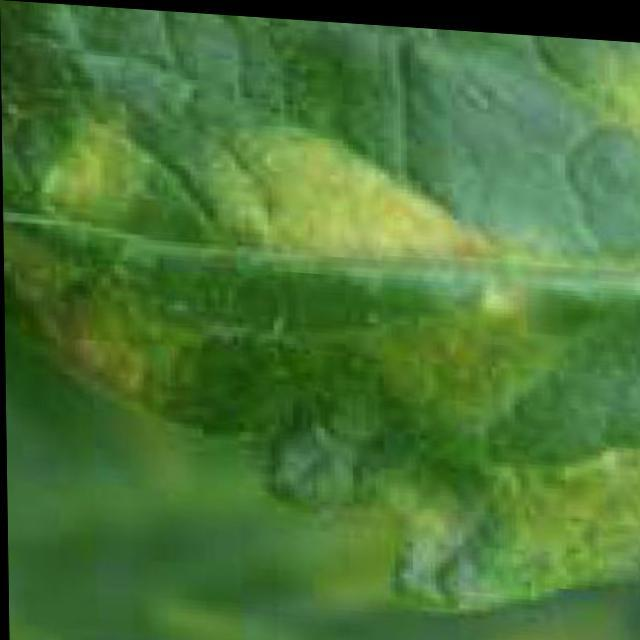Tomato mold leaf: (1, 0, 639, 638)
